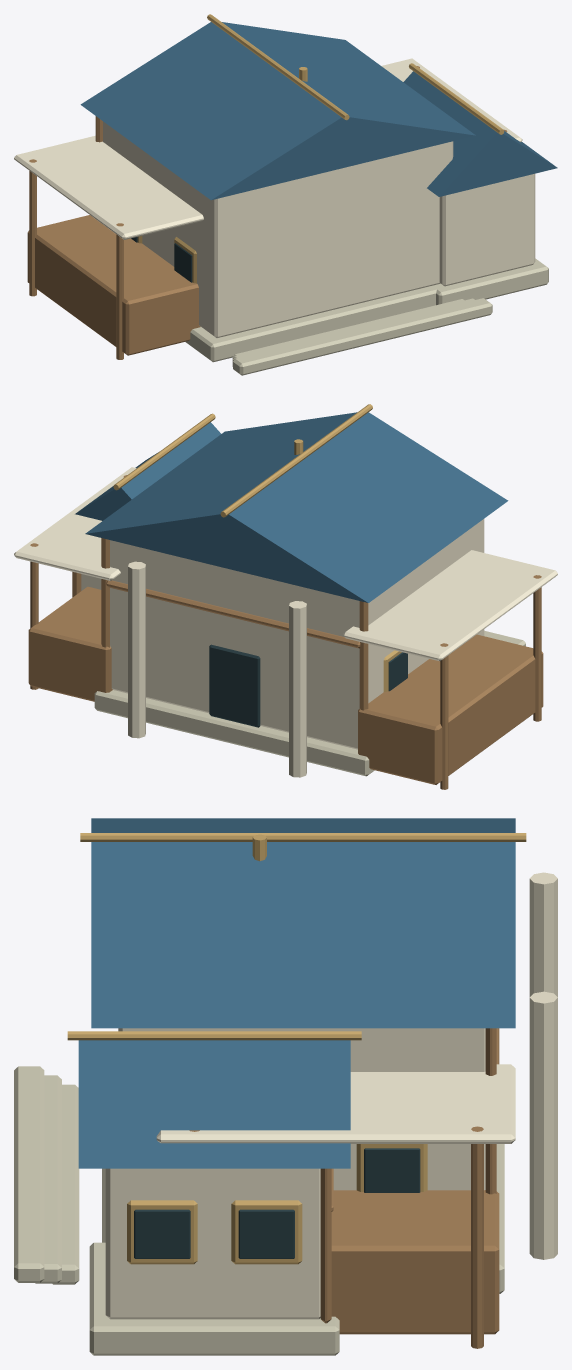
File: level_19.glb
The picture shows the model from 3 angles, top to bottom: view 1: azimuth 30°, elevation 25°; view 2: azimuth 150°, elevation 25°; view 3: azimuth 270°, elevation 25°; orthographic projection. The views are drawn at different scales.
Parts seen in each view (by area): view 1: market — level 19; view 2: market — level 19; view 3: market — level 19.
Boxes of the visible parts, x1,y1,x2,y2 form: market — level 19: [14, 14, 557, 375]; market — level 19: [14, 404, 557, 789]; market — level 19: [14, 818, 557, 1355].
Bounding box in the file's own units: 7.08 × 3.71 × 5.
